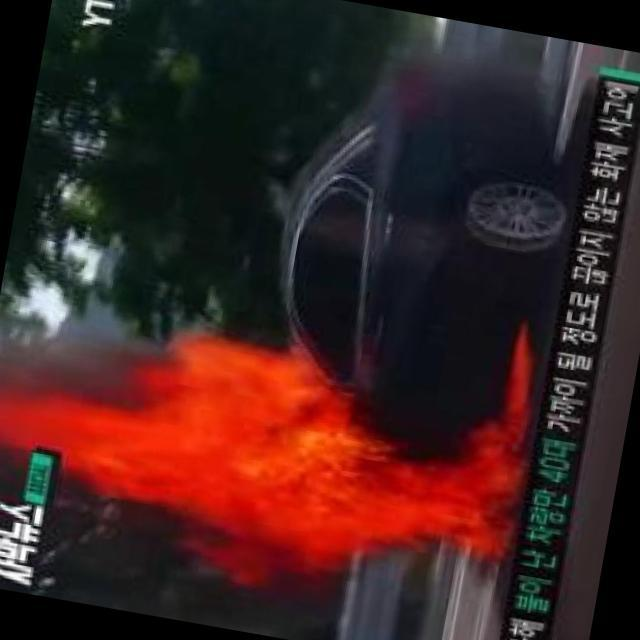Fire: (51, 355, 527, 588)
